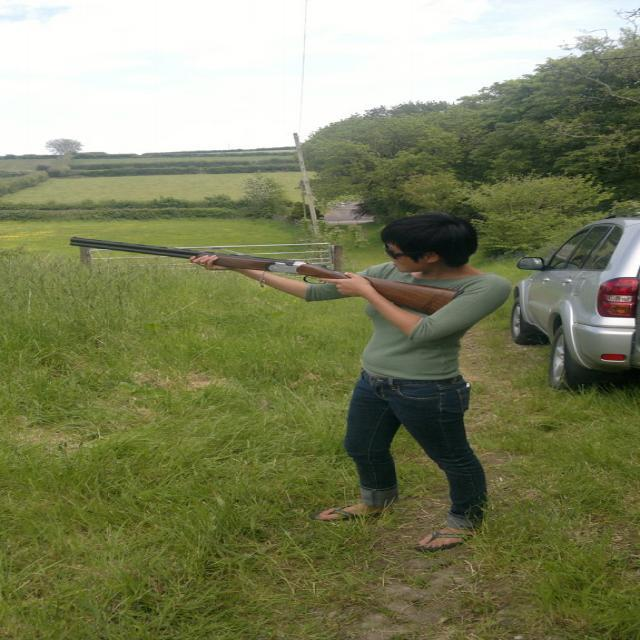weapon: (69, 236, 463, 315)
